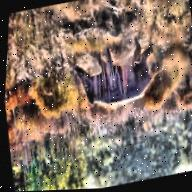boar: (59, 38, 171, 123)
